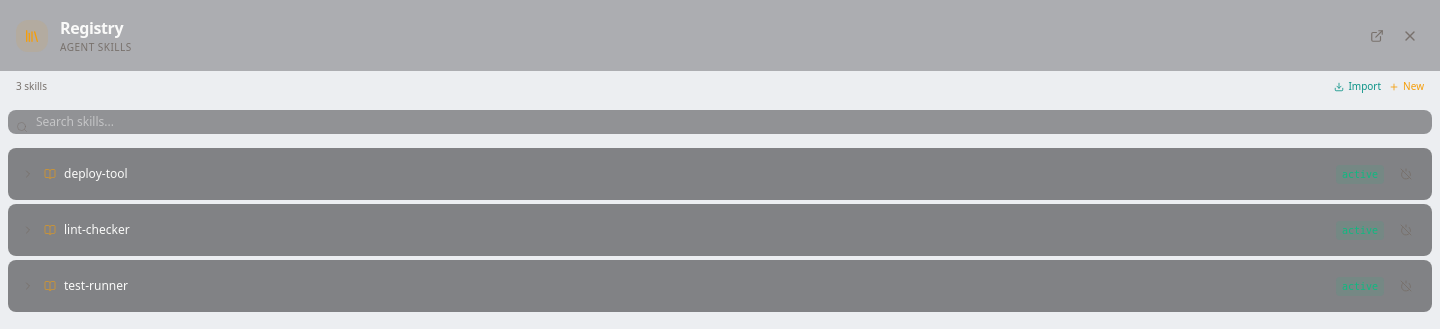
Test: RegistrySidebar › shows filtered count during search
Type "deploy" into the field with placeholder "Search skills..." at (720, 122), box [8,110,1432,134]
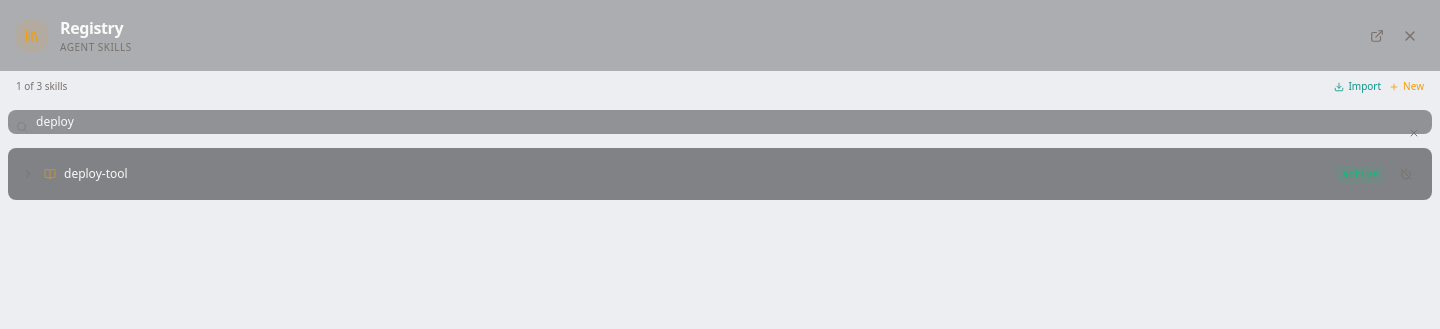
Check: the text "1 of 3 skills" is shown, box [16,79,67,94]
